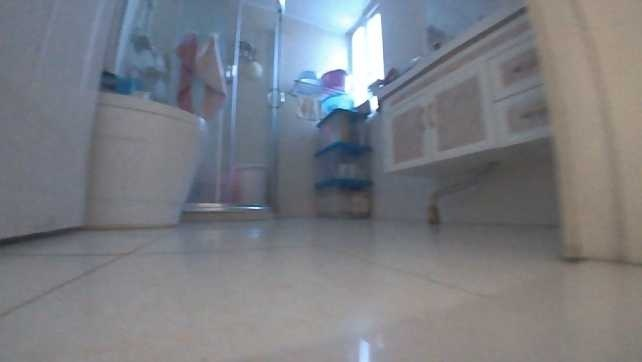toilet: (82, 89, 213, 231)
washstand: (375, 0, 559, 180)
